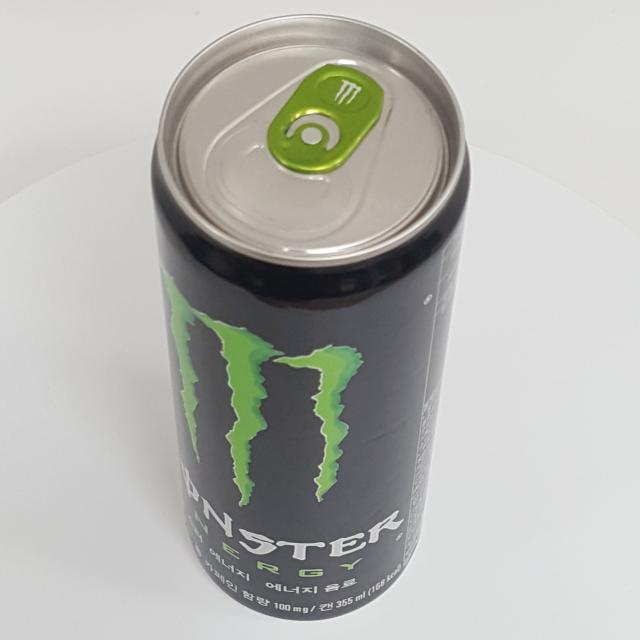--------355ML: (151, 13, 470, 621)
